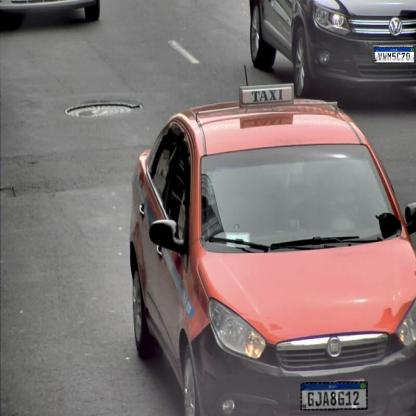PlacaM: (300, 381, 368, 410), (374, 47, 415, 63)
